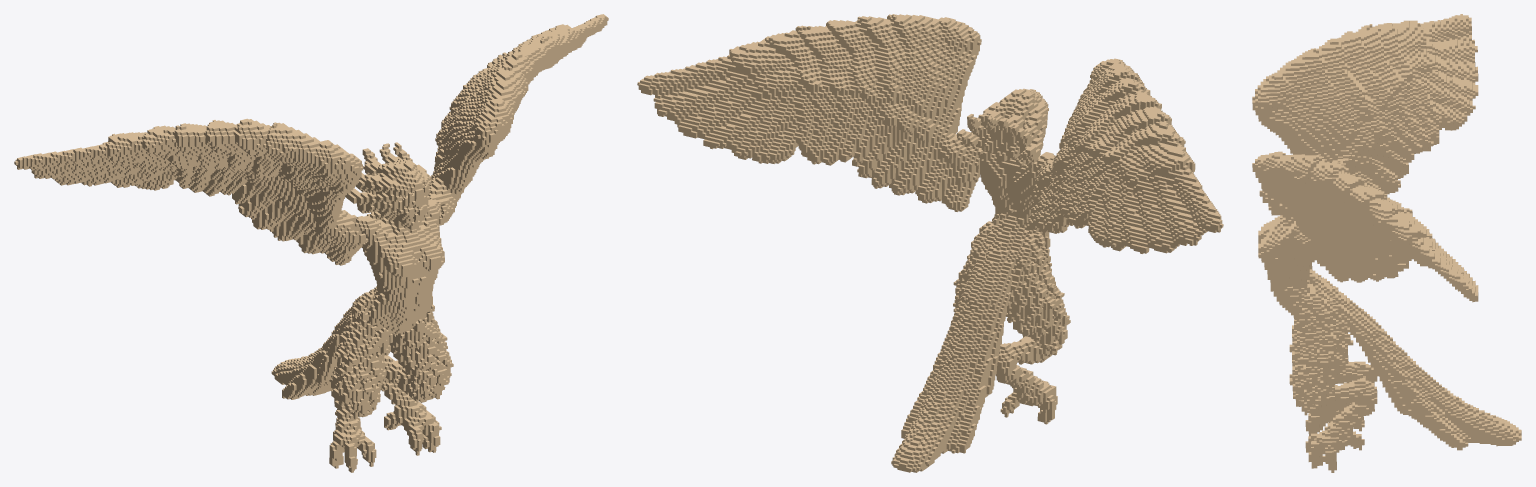
File: Harpy.fbx
The picture shows the model from 3 angles, left to right: view 1: azimuth 30°, elevation 25°; view 2: azimuth 150°, elevation 25°; view 3: azimuth 270°, elevation 25°; orthographic projection. The views are drawn at different scales.
Parts seen in each view (by area): view 1: Harpy; view 2: Harpy; view 3: Harpy.
Part boxes in pixels (x1,y1,x2,y2): Harpy: (14, 14, 608, 472); Harpy: (637, 14, 1223, 472); Harpy: (1252, 14, 1521, 472).
Bounding box in the file's own units: 16.98 × 10.08 × 7.06.
